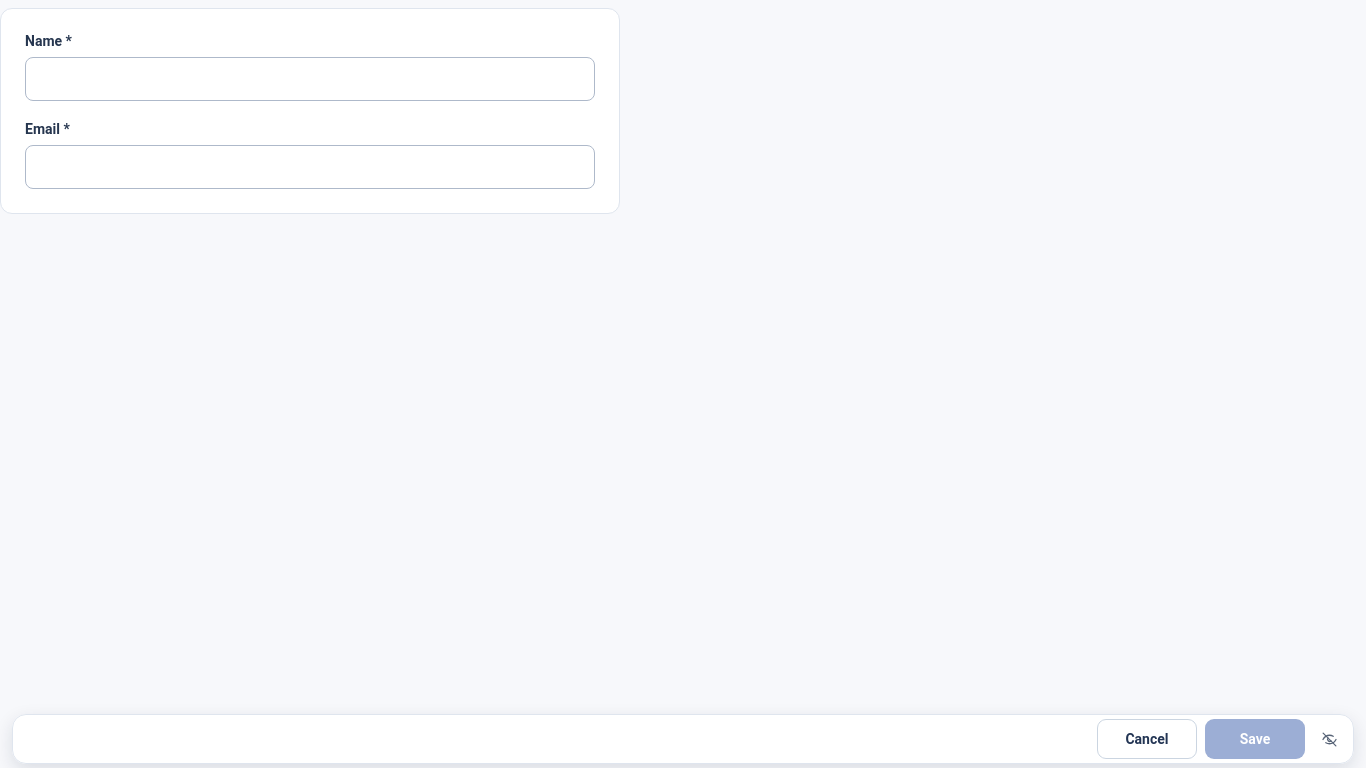
Test case: CustomerFormComponent › shows API failures without navigating away
Step 1. Type "New Customer" into the field with id "customer-name" → (310,79), box [25,57,595,101]
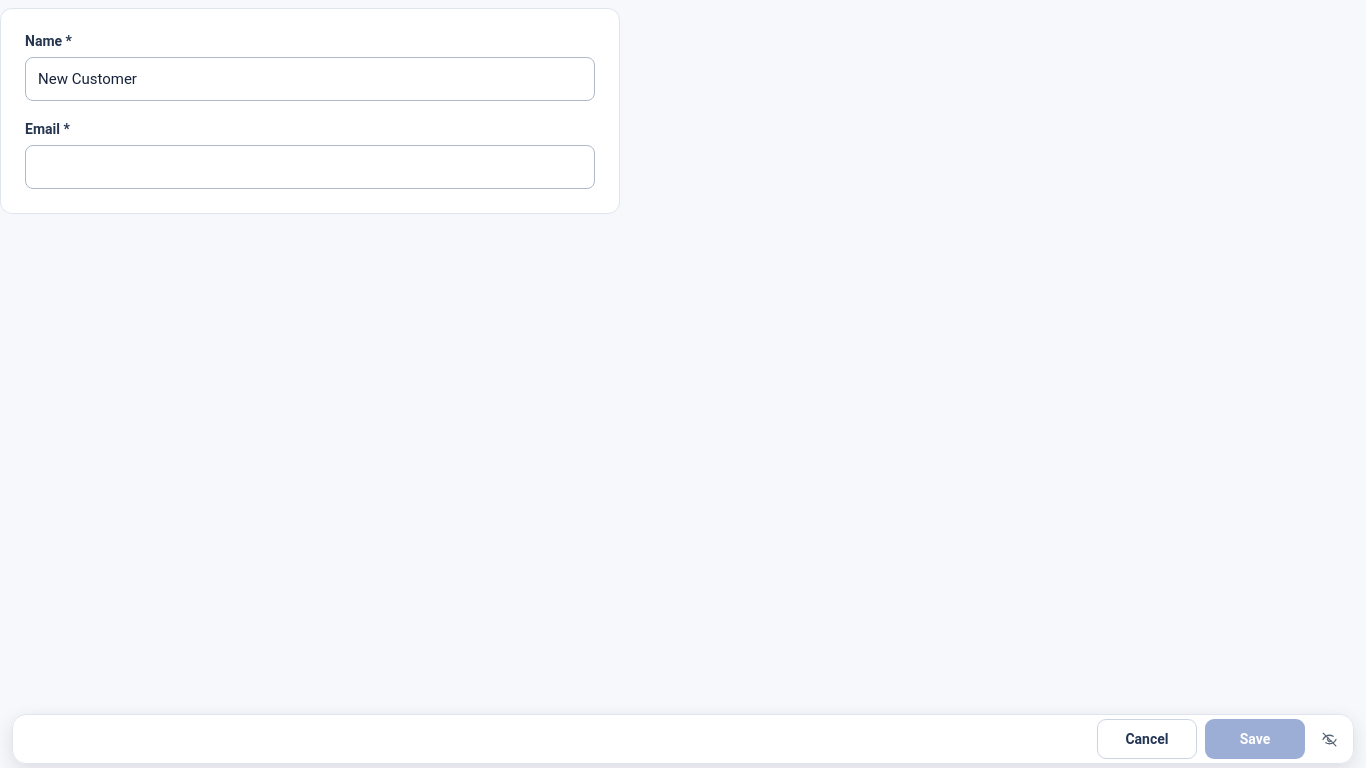
Step 2. Type "new@example.test" into the field with id "customer-email" → (310,167), box [25,145,595,189]
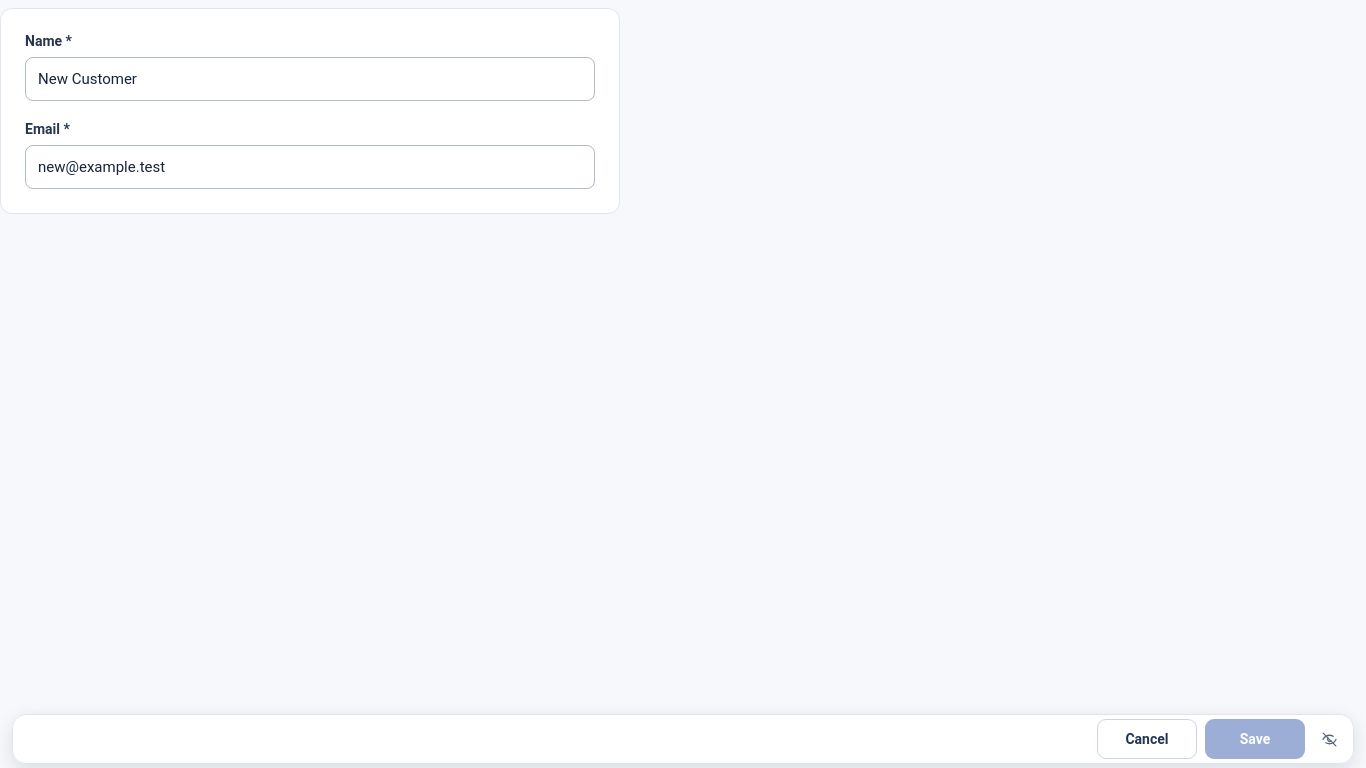
Step 3. Submit the form, box [0,8,620,214]
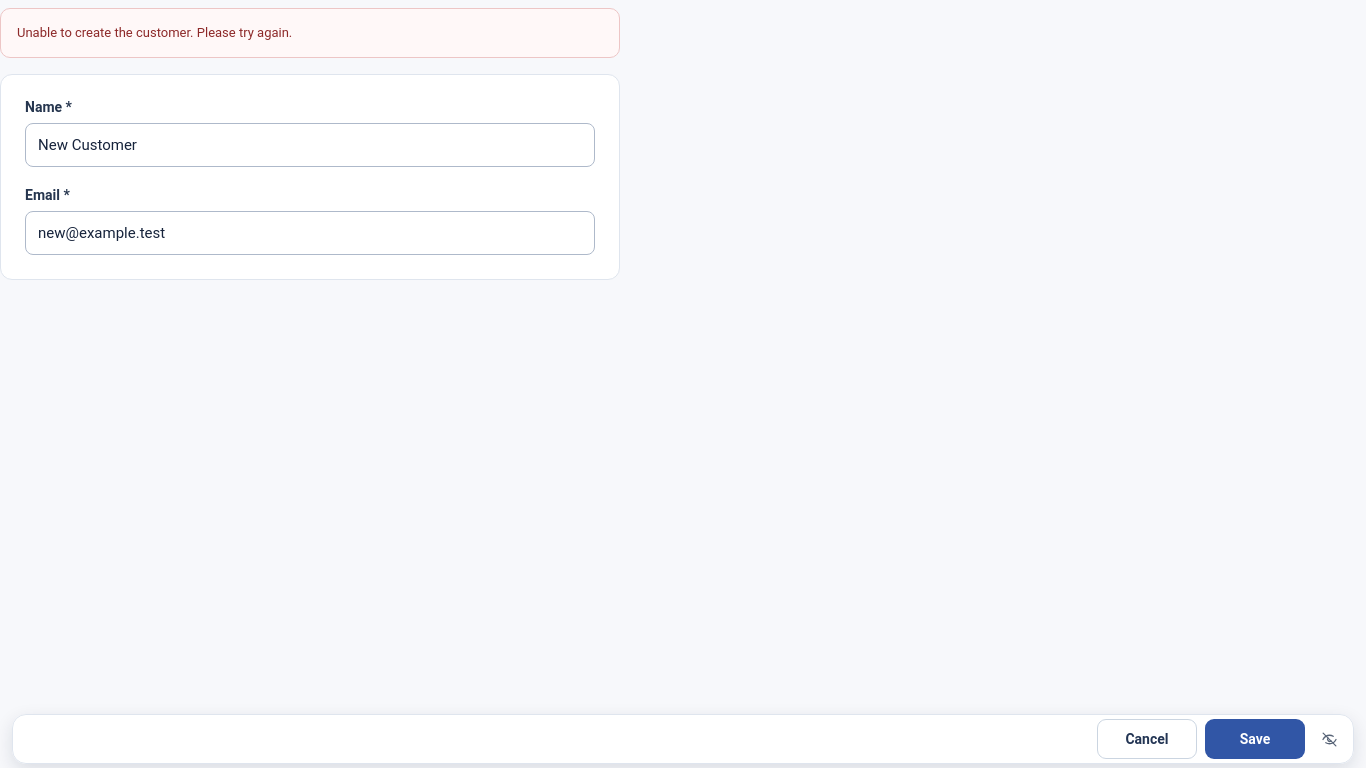
expect the form is shown: met, box [0,74,620,280]
expect the message "Unable to create the customer. Please try again." is shown: met, box [0,8,620,58]
